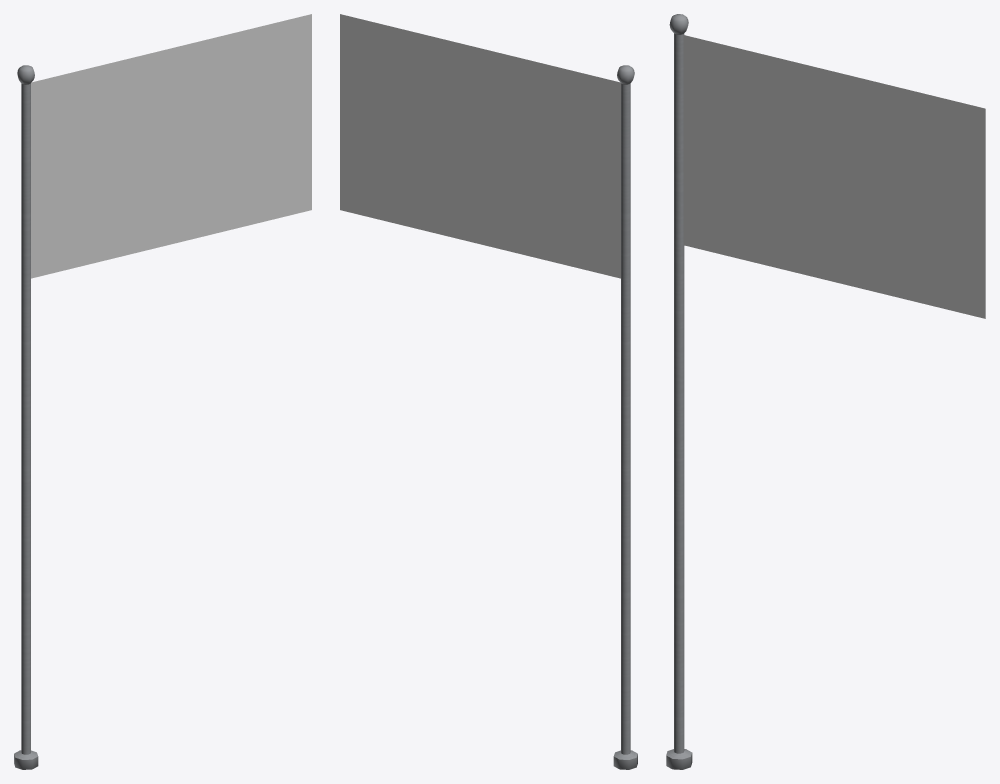
The model's file is flag.fbx.
3 views of the same model, side by side, from view 1: azimuth 30°, elevation 25°; view 2: azimuth 150°, elevation 25°; view 3: azimuth 330°, elevation 25° (orthographic). The views are drawn at different scales.
Parts seen in each view (by area): view 1: pPlane8, pCylinder1; view 2: pPlane8, pCylinder1; view 3: pPlane8, pCylinder1.
Part boxes in pixels (bbox=[...]): pPlane8: bbox=[31, 14, 311, 278]; pCylinder1: bbox=[14, 65, 38, 769]; pPlane8: bbox=[340, 14, 620, 278]; pCylinder1: bbox=[613, 65, 637, 769]; pPlane8: bbox=[683, 35, 985, 318]; pCylinder1: bbox=[666, 14, 692, 769].
Size of the model in its own units: 107 by 241 by 7.86.
